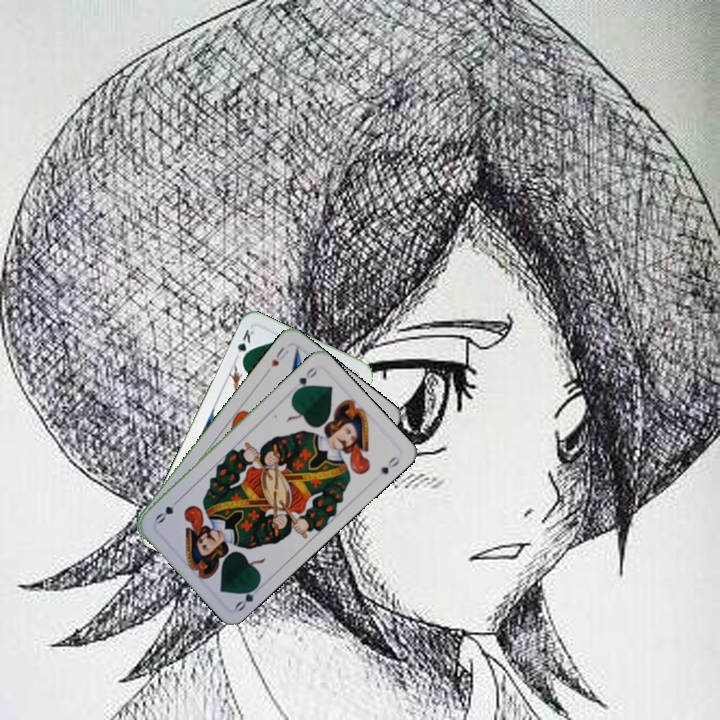GK: (231, 325, 256, 365)
GO: (231, 579, 265, 614), (287, 363, 320, 397)
HU: (262, 343, 291, 376)
